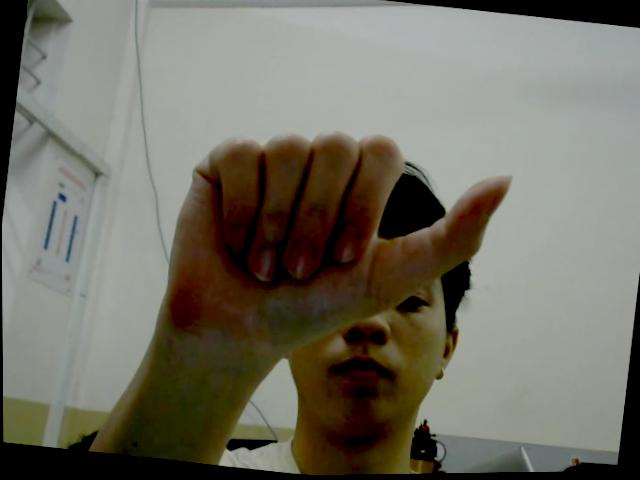A: (156, 109, 516, 367)
